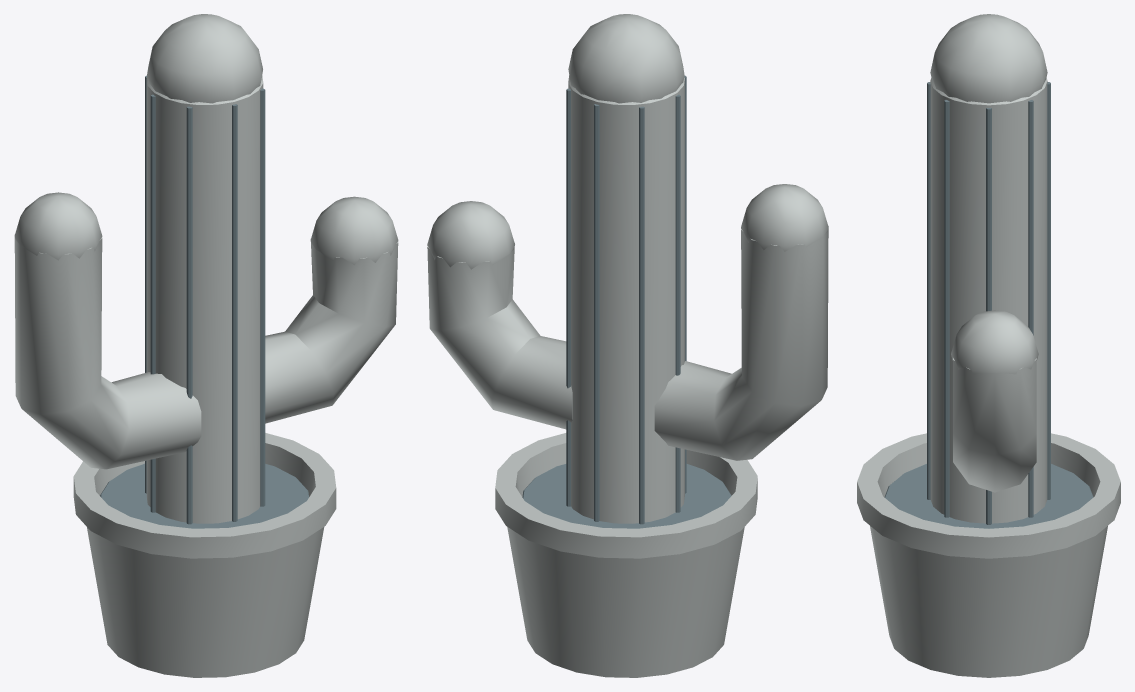
Rendered from cactus.glb.
3 views of the same model, side by side, from view 1: azimuth 30°, elevation 25°; view 2: azimuth 150°, elevation 25°; view 3: azimuth 270°, elevation 25° (orthographic).
Parts seen in each view (by area): view 1: main_column, plant_pot, cactus_arm, cactus_arm.001, rounded_top, soil, arm_tip.001, arm_tip, column_rib.003, column_rib.001, column_rib.002, column_rib.004 (+1 smaller); view 2: main_column, plant_pot, cactus_arm, cactus_arm.001, rounded_top, soil, arm_tip.001, arm_tip, column_rib.005, column_rib.006, column_rib.004, column_rib.007 (+1 smaller); view 3: plant_pot, main_column, cactus_arm.001, rounded_top, arm_tip.001, soil, column_rib.001, column_rib.007, column_rib.002, column_rib.006, column_rib.
Part boxes in pixels (box(x1,y1,x2,y2)): main_column: box(146, 76, 263, 523); plant_pot: box(73, 433, 336, 677); cactus_arm: box(14, 234, 201, 469); cactus_arm.001: box(265, 242, 398, 423); rounded_top: box(147, 14, 262, 103); soil: box(100, 463, 308, 528); arm_tip.001: box(310, 196, 398, 265); arm_tip: box(14, 192, 102, 260); column_rib.003: box(186, 106, 192, 524); column_rib.001: box(260, 88, 265, 506); column_rib.002: box(232, 104, 237, 521); column_rib.004: box(150, 94, 155, 512); main_column: box(568, 75, 684, 523); plant_pot: box(495, 433, 757, 677); cactus_arm: box(654, 225, 828, 460); cactus_arm.001: box(427, 242, 572, 429); rounded_top: box(568, 14, 684, 103); soil: box(522, 464, 731, 528); arm_tip.001: box(427, 201, 514, 269); arm_tip: box(741, 184, 828, 251); column_rib.005: box(639, 106, 644, 524); column_rib.006: box(594, 104, 599, 521); column_rib.004: box(675, 94, 680, 512); column_rib.007: box(566, 88, 570, 506); plant_pot: box(857, 433, 1120, 677); main_column: box(930, 78, 1047, 523); cactus_arm.001: box(953, 358, 1036, 492); rounded_top: box(930, 14, 1047, 103); arm_tip.001: box(951, 310, 1038, 374); soil: box(884, 464, 1093, 528); column_rib.001: box(944, 100, 949, 517); column_rib.007: box(1028, 100, 1033, 517); column_rib.002: box(927, 82, 930, 499); column_rib.006: box(1047, 82, 1050, 499); column_rib: box(986, 108, 991, 524).
Size of the model in its own units: 0.75 by 1.16 by 0.45.
